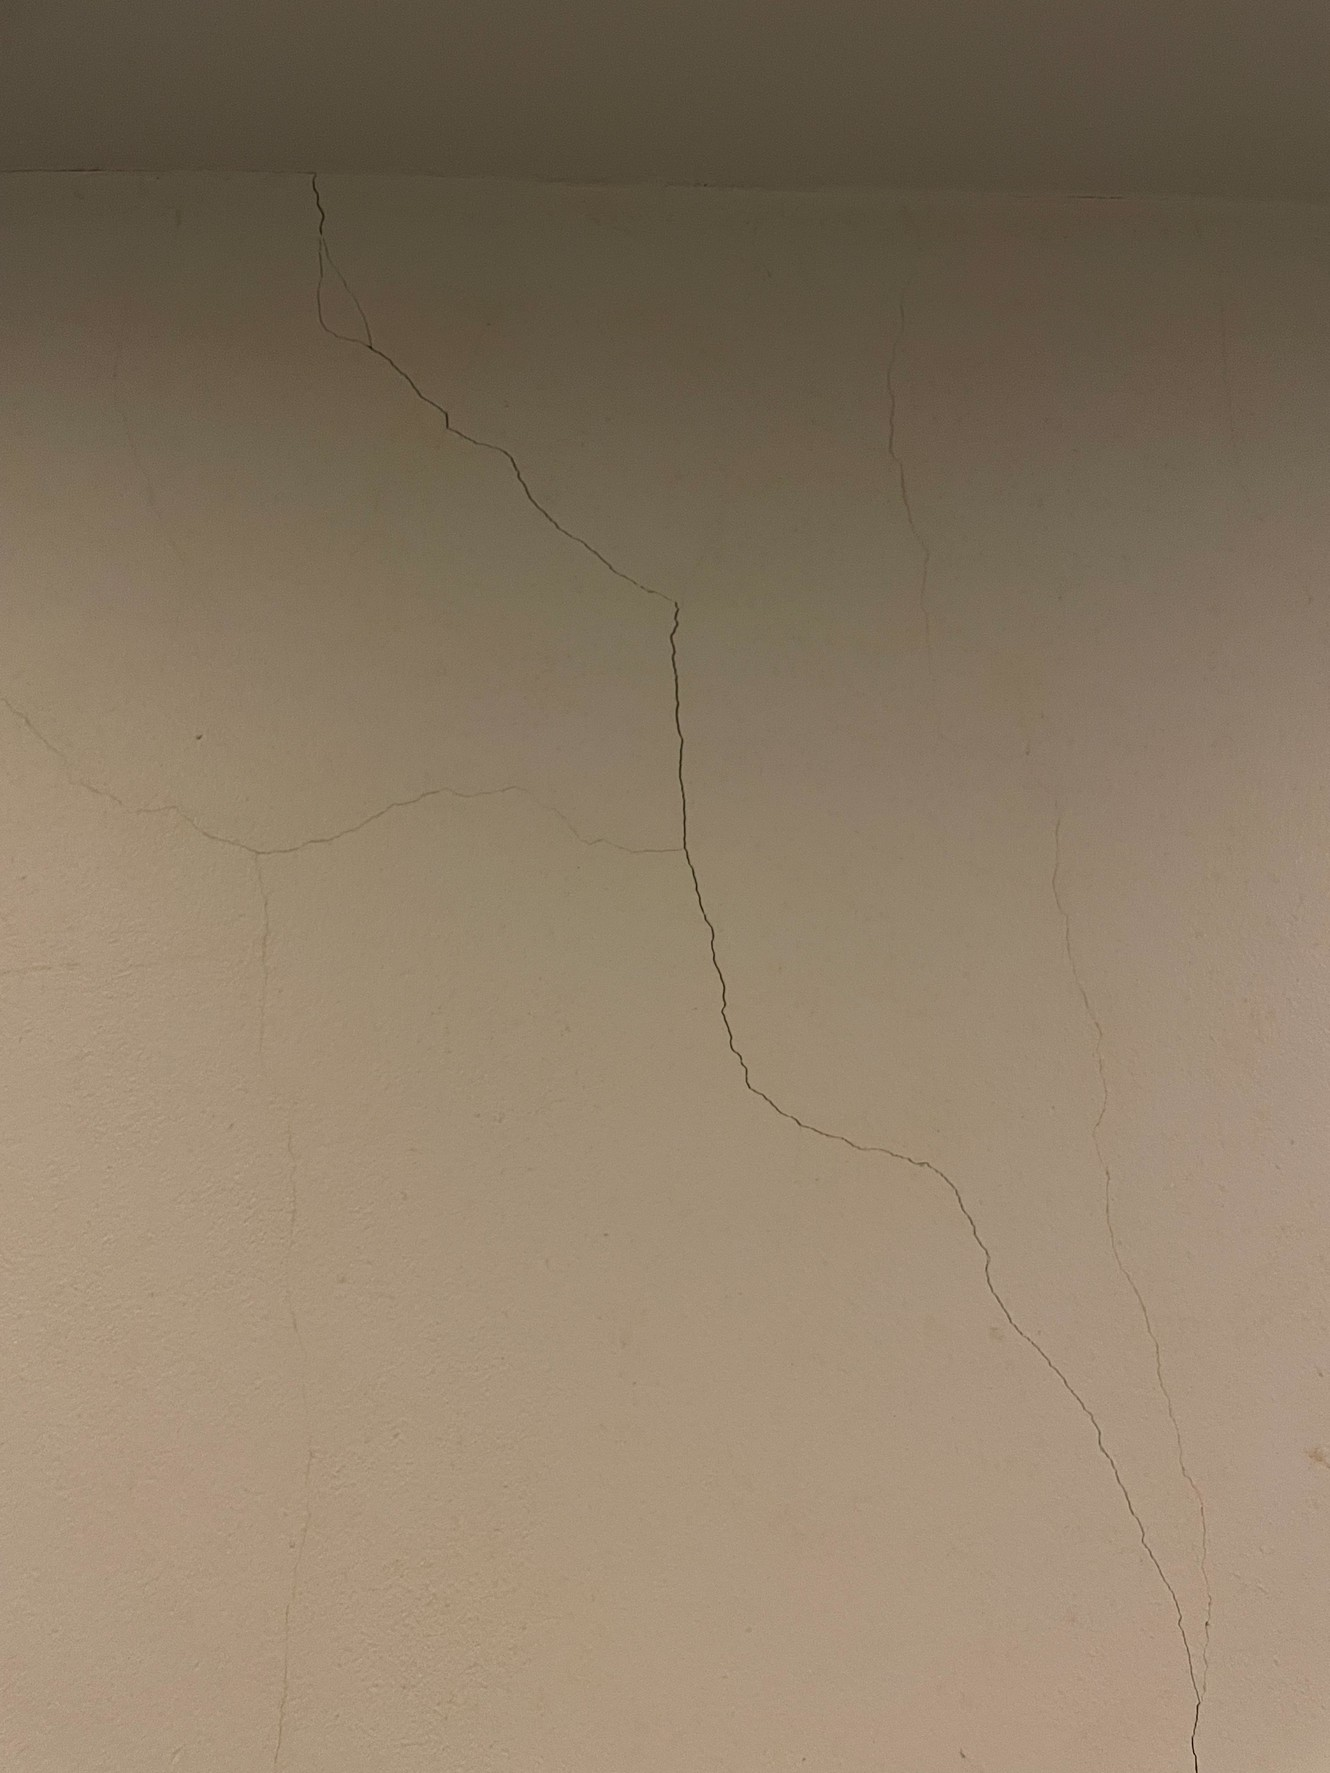Low: (284, 166, 1317, 1773)
